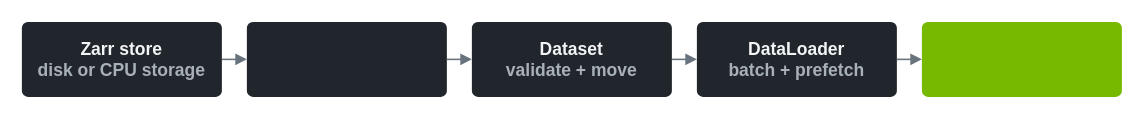
Some shapes in this 1143 by 118 pixel diagram are drawn without their labels. Here are the shapes that lost their labels. From the top down, the centre of each, then its label:
point 346,58: Reader CPU tensors
point 1021,58: Batch selected device
